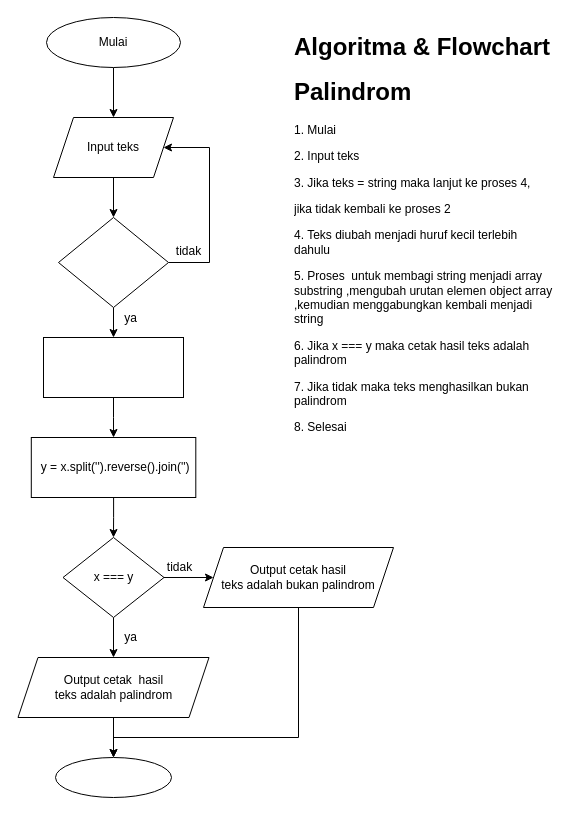
Image size: 576x815. Some labels were removed from this diagram. The box of each missing label's shape, as (x1, y1, x2, y2) in pixels:
Selesai: (54, 756, 172, 798)
teks = string: (58, 216, 168, 308)
x = teks.toLowerCase(): (42, 336, 184, 398)
